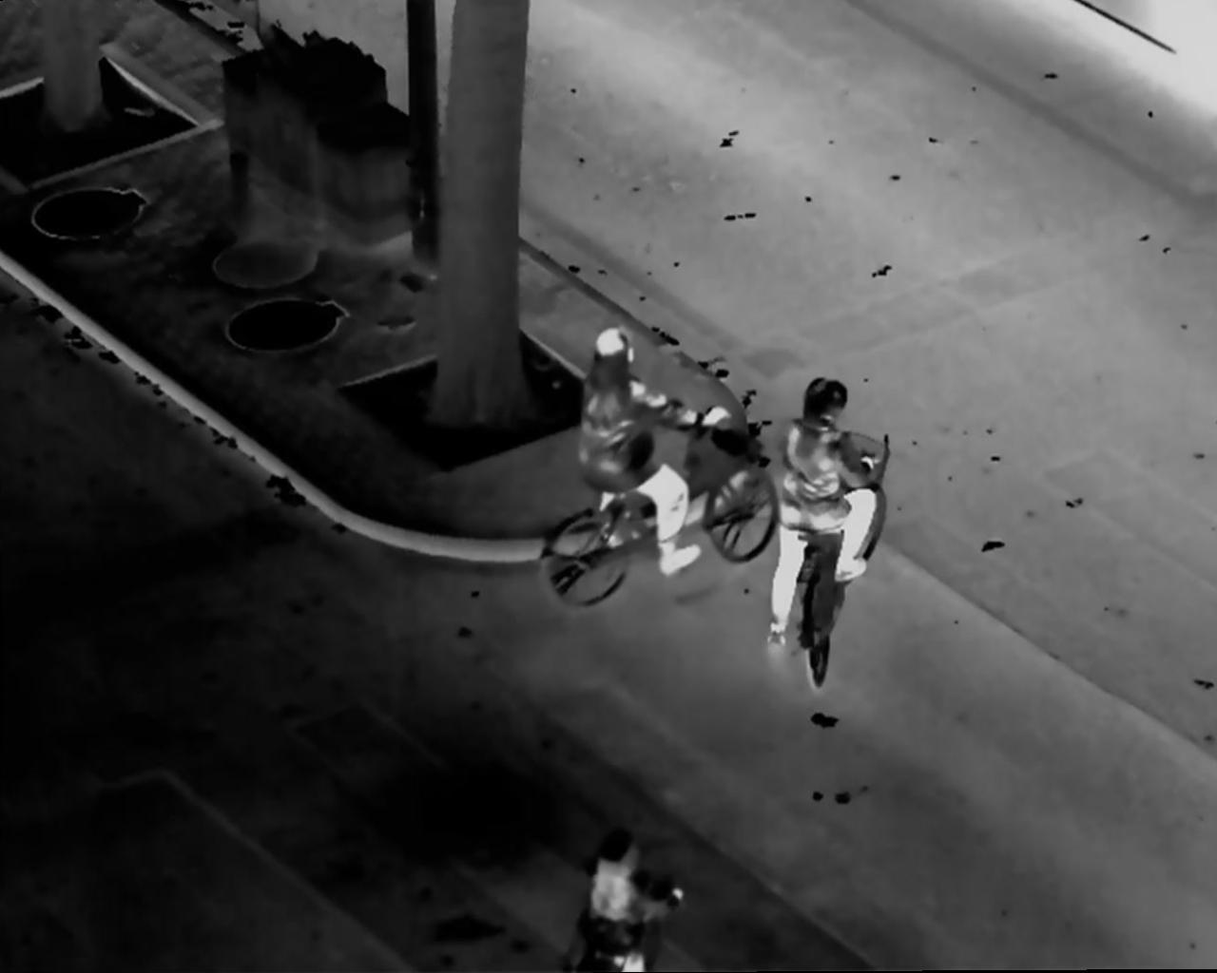person: (570, 324, 732, 576), (768, 374, 877, 651), (570, 828, 687, 973)
